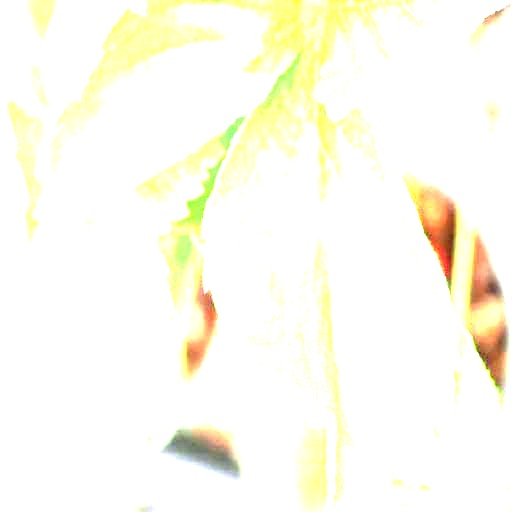Powdery Mildew Leaf: (201, 26, 461, 511), (33, 0, 307, 252), (314, 0, 511, 122)
